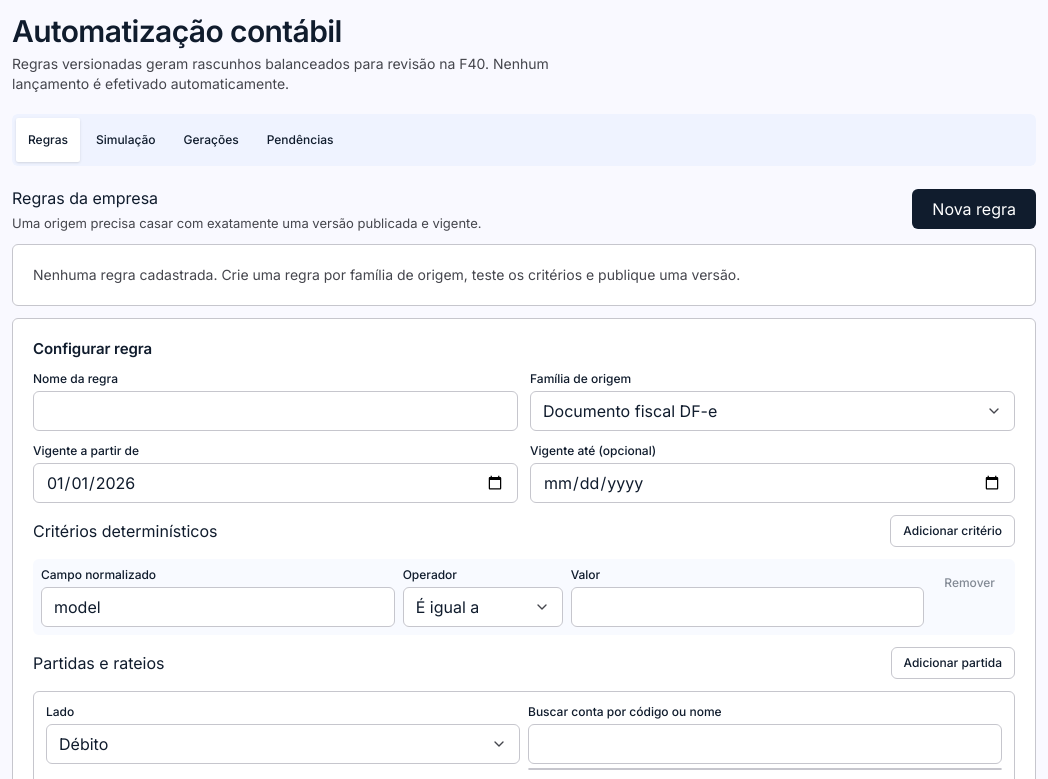
Test case: Automatização contábil F41 › abre a área de simulação e bloqueia comandos sem origem selecionada
The width and height of the screenshot is (1048, 779).
Click the tab "Simulação": [126, 140] box [84,118,168,162]
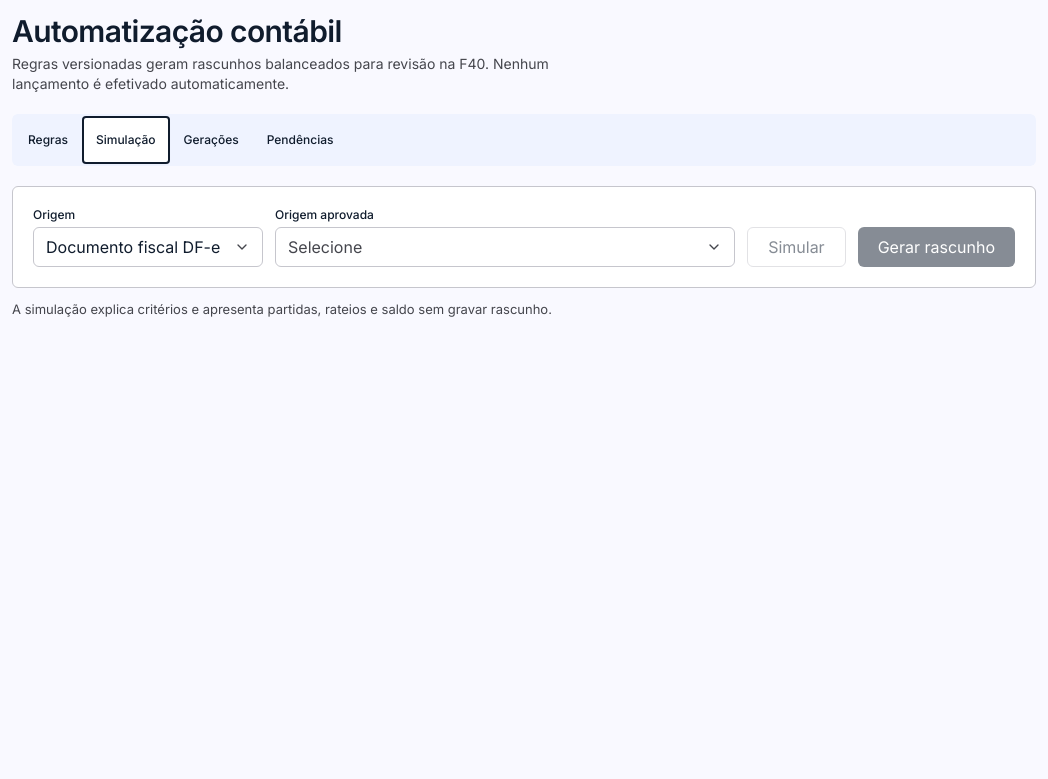
expect the button "Simular" is disabled: met, box [747,227,846,267]
expect the button "Gerar rascunho" is disabled: met, box [858,227,1015,267]
